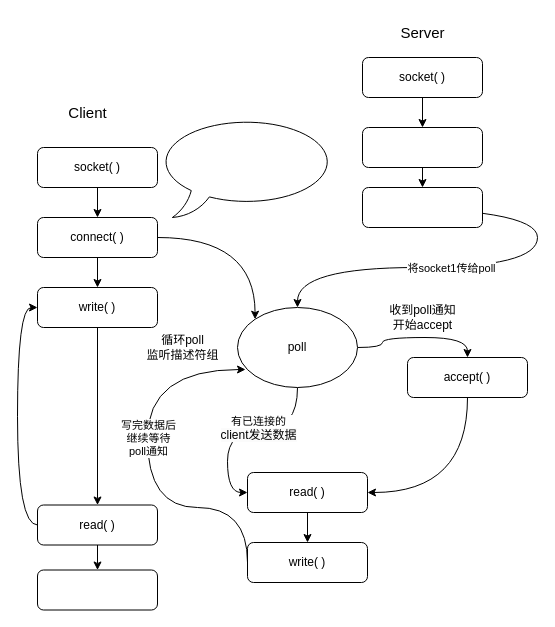
The diagram is 555 pixels wide and 627 high, and some of its shapes have lost their labels. Here are the shapes that lost their labels. From the top down, the centre of each, then its label:
(x=247, y=167): client连接socket1 变为可读状态
(x=422, y=147): bind( )
(x=422, y=207): listen( )
(x=97, y=589): close( )
